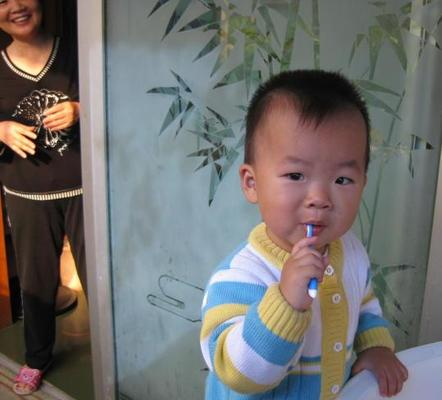person: (198, 69, 409, 400)
